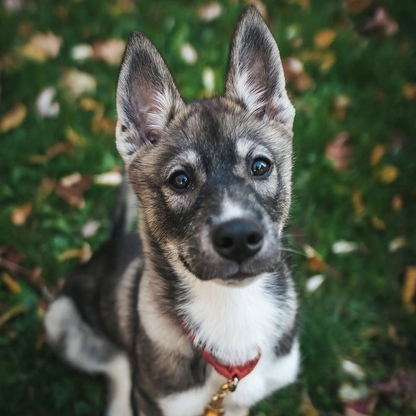husky: (37, 1, 311, 416)
